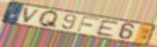6: (118, 23, 137, 41)
9: (60, 14, 77, 30)
E: (96, 19, 120, 38)
F: (75, 16, 100, 33)
Q: (37, 10, 60, 30)
V: (23, 6, 43, 24)
